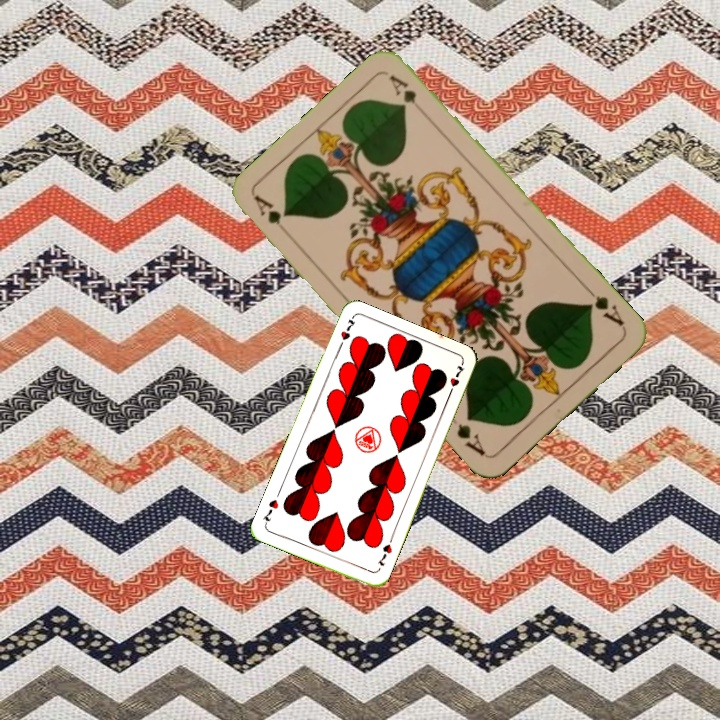GA: (581, 283, 627, 331), (250, 192, 284, 227)
H7: (334, 314, 358, 352), (373, 540, 395, 568)
